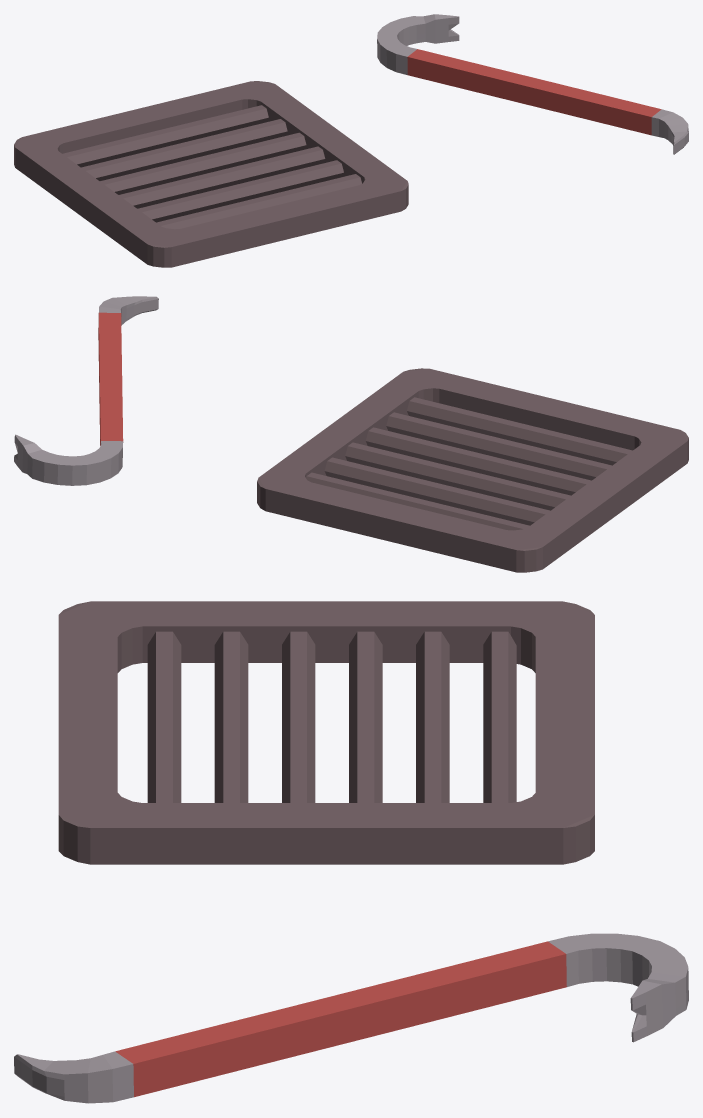
Rendered from crowbar with open drain.fbx.
3 views of the same model, one above another, from view 1: azimuth 30°, elevation 25°; view 2: azimuth 150°, elevation 25°; view 3: azimuth 270°, elevation 25° (orthographic). The views are drawn at different scales.
Visible parts, largest first — view 1: Cube.006; view 2: Cube.006; view 3: Cube.006.
Part boxes in pixels (box(x1,y1,x2,y2)): Cube.006: box(14, 14, 688, 267); Cube.006: box(14, 296, 688, 572); Cube.006: box(14, 601, 688, 1103).
Bounding box in the file's own units: 577 × 25.76 × 353.
